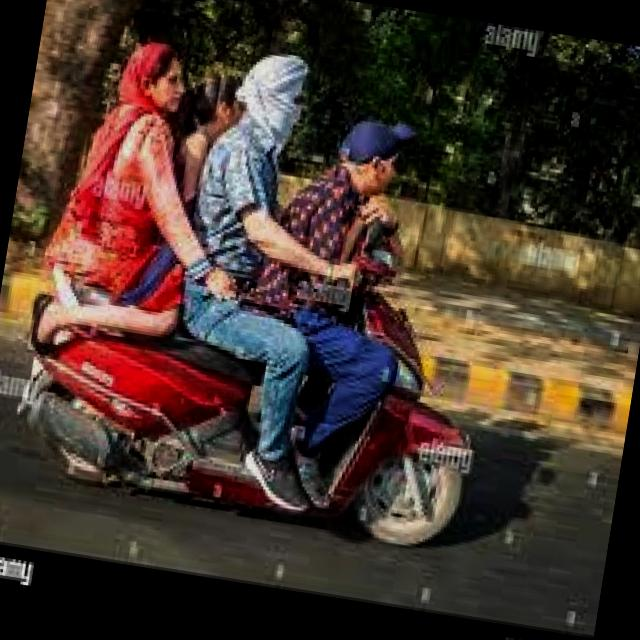motorcycle: (0, 173, 507, 549)
person: (179, 41, 382, 392), (43, 14, 264, 310), (245, 101, 450, 414), (156, 55, 270, 264)
rider_region: (0, 12, 534, 554)
